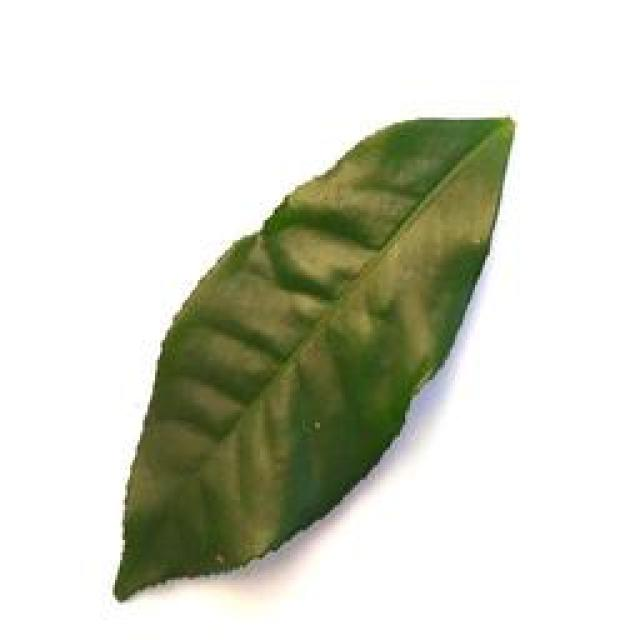Healthy: (106, 102, 522, 604)
